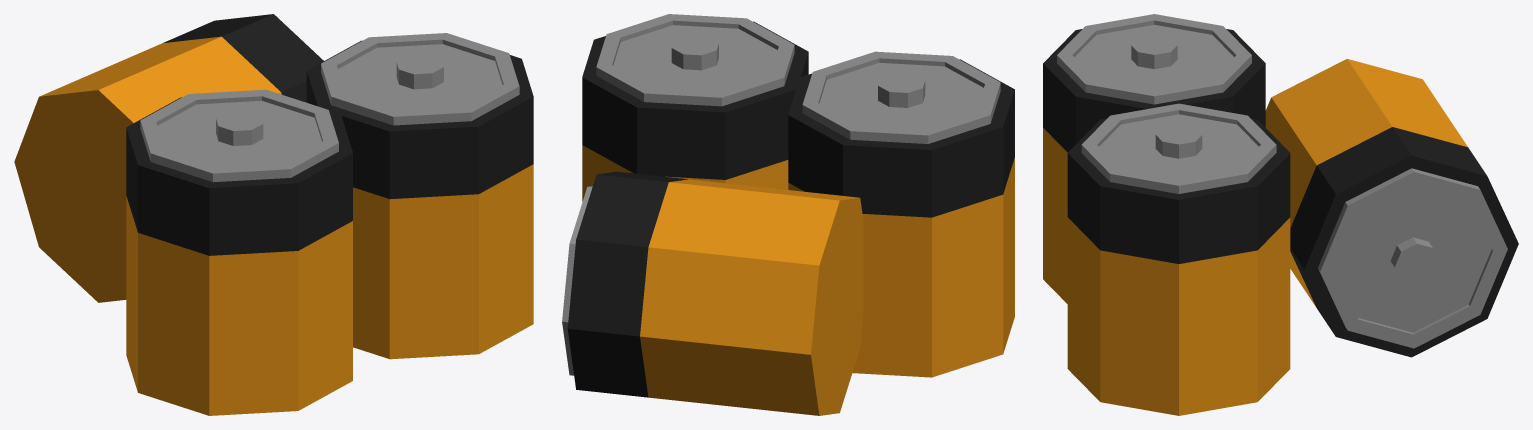
Rendered from batteries.glb.
The picture shows the model from 3 angles, left to right: view 1: azimuth 30°, elevation 25°; view 2: azimuth 150°, elevation 25°; view 3: azimuth 270°, elevation 25°; orthographic projection. The views are drawn at different scales.
Visible parts, largest first — view 1: Cylinder.001, Cylinder.003, Cylinder.002; view 2: Cylinder.001, Cylinder.003, Cylinder.002; view 3: Cylinder.001, Cylinder.002, Cylinder.003.
Boxes of the visible parts, x1,y1,x2,y2 form: Cylinder.001: [14, 36, 533, 415]; Cylinder.003: [126, 14, 533, 255]; Cylinder.002: [140, 33, 519, 182]; Cylinder.001: [582, 145, 1014, 415]; Cylinder.003: [567, 21, 1014, 397]; Cylinder.002: [562, 14, 1000, 375]; Cylinder.001: [1043, 59, 1467, 415]; Cylinder.002: [1057, 14, 1507, 348]; Cylinder.003: [1043, 29, 1518, 357].
Size of the model in its own units: 2.62 by 1.56 by 2.87.
